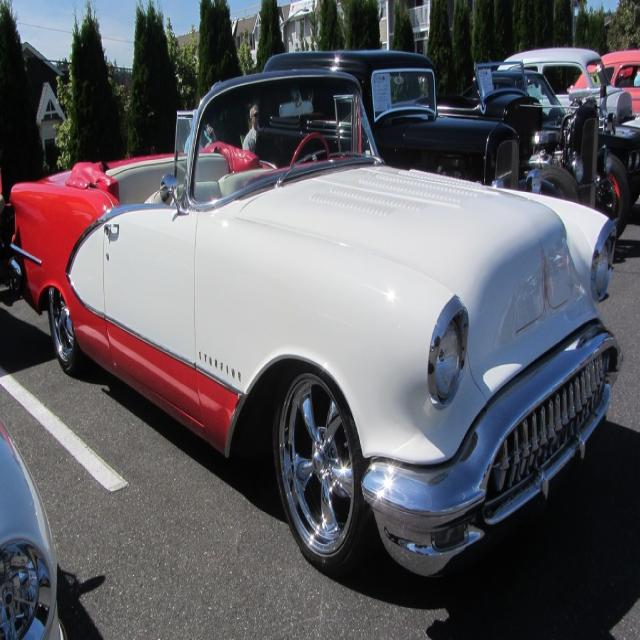car: (25, 96, 629, 564)
